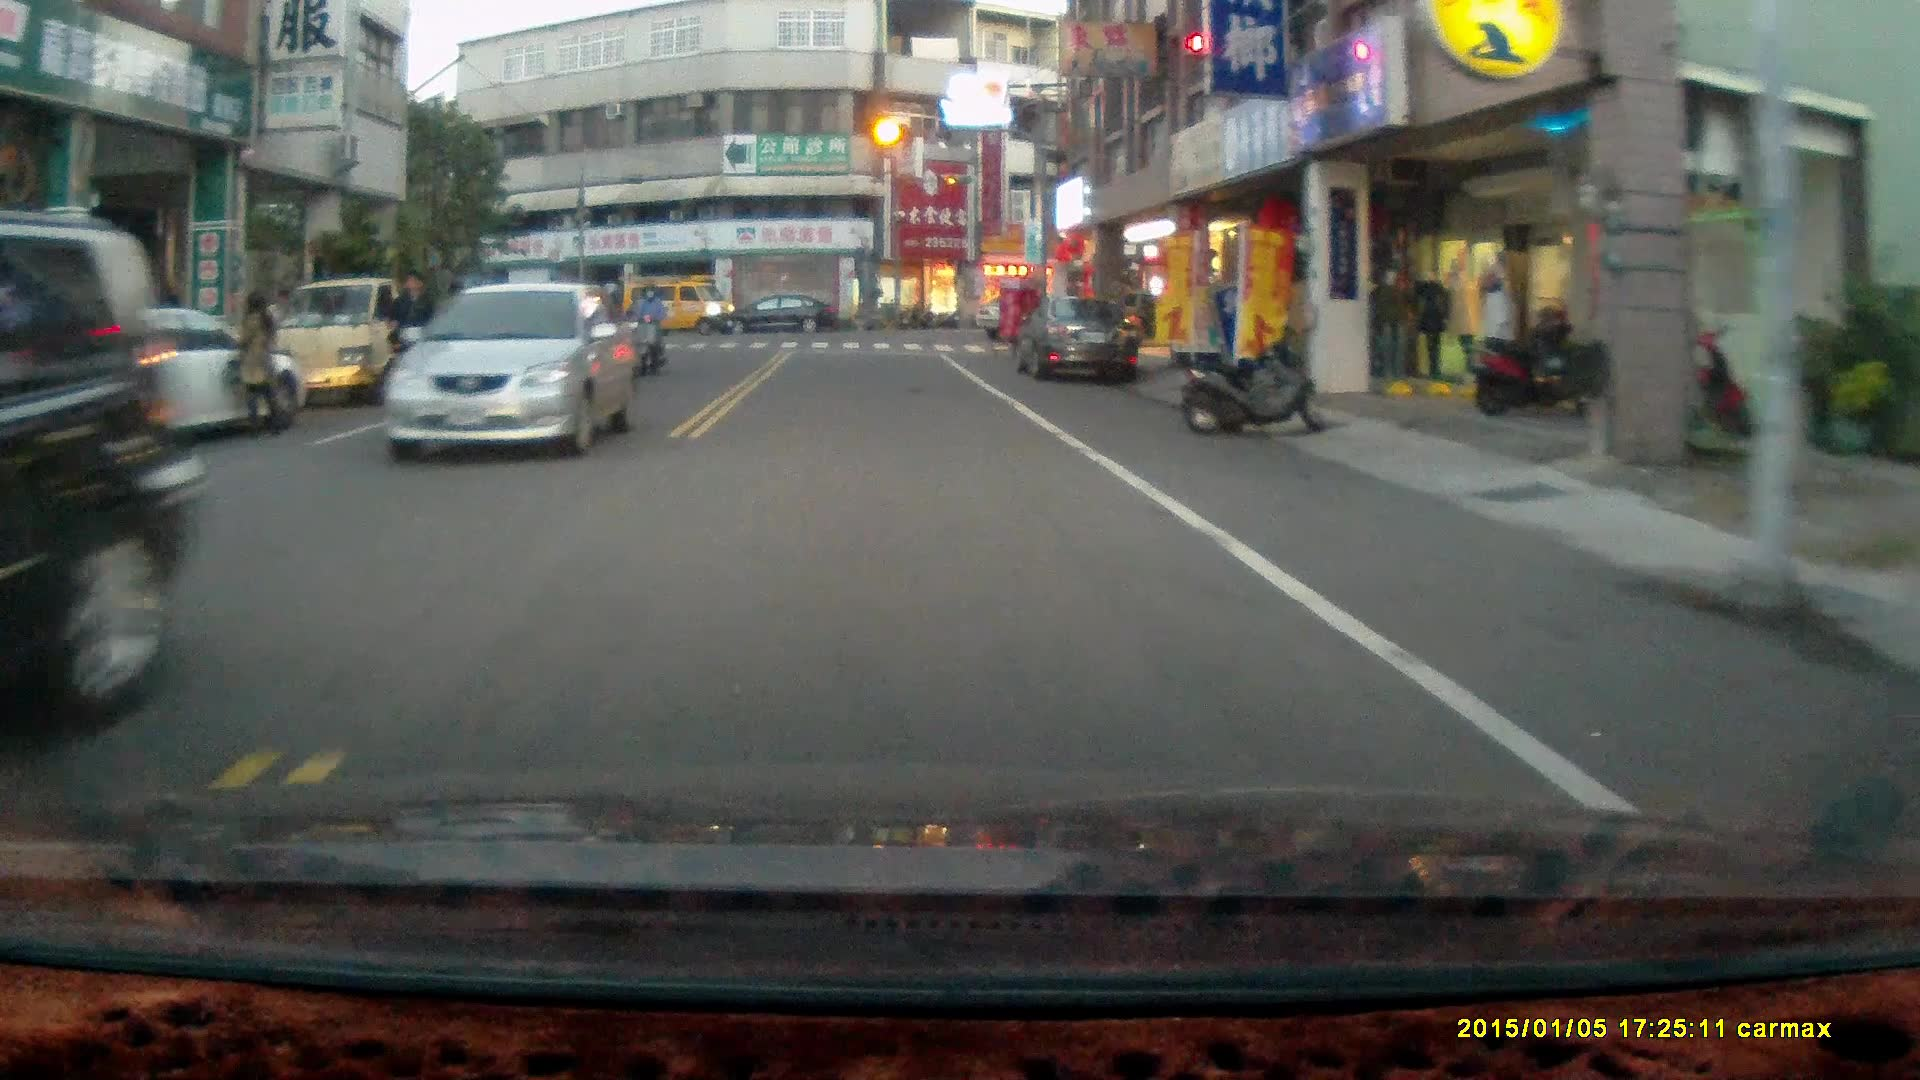pedestrian: (226, 288, 283, 439), (382, 265, 440, 411)
rider: (630, 280, 668, 377)
vehicle: (1, 236, 188, 717), (379, 279, 645, 462), (7, 302, 288, 463), (263, 277, 455, 408), (1010, 288, 1149, 388), (619, 274, 730, 335), (723, 292, 840, 337)
